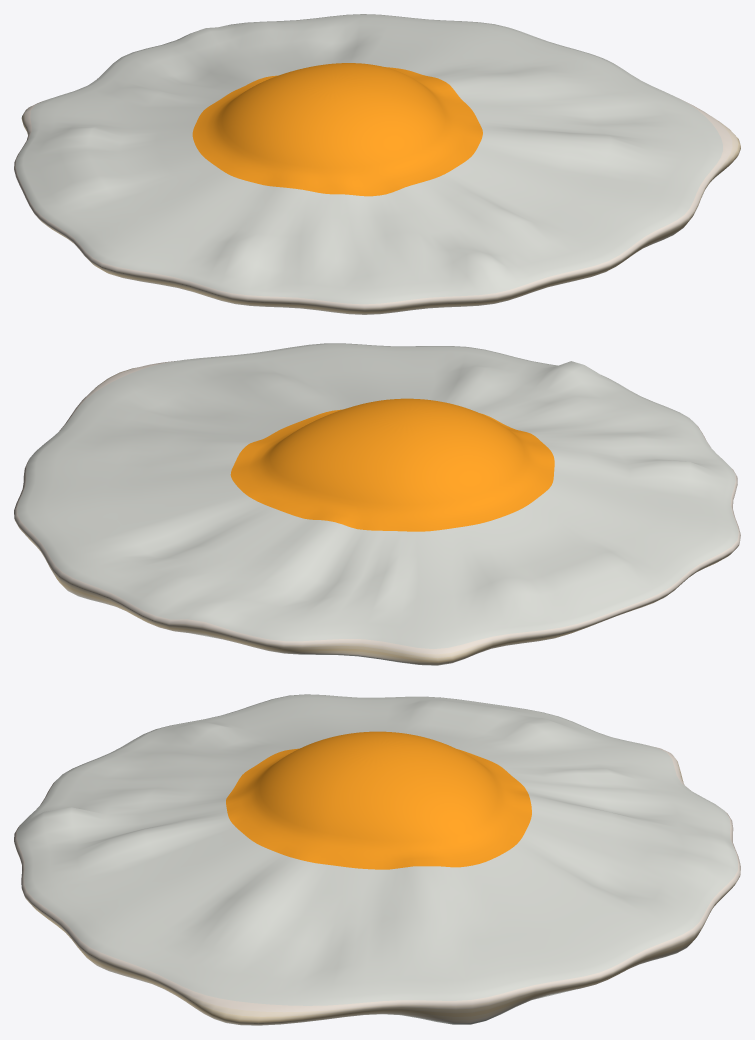
The model's file is showcase.glb.
3 views of the same model, one above another, from view 1: azimuth 30°, elevation 25°; view 2: azimuth 150°, elevation 25°; view 3: azimuth 270°, elevation 25° (orthographic). The views are drawn at different scales.
Parts seen in each view (by area): view 1: Sphere.011; view 2: Sphere.011; view 3: Sphere.011.
Boxes of the visible parts, x1=… form: Sphere.011: x1=14, y1=14, x2=740, y2=314; Sphere.011: x1=14, y1=343, x2=740, y2=665; Sphere.011: x1=14, y1=694, x2=740, y2=1025.
Bounding box in the file's own units: 0.082 × 0.014 × 0.0791.
